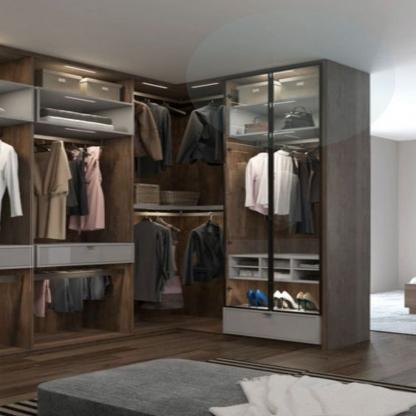Transparent Closet: (0, 44, 371, 353)
